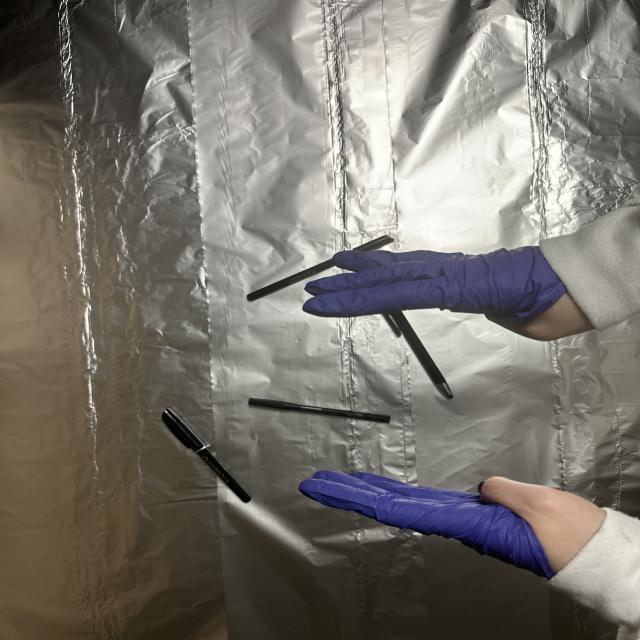glove_partial: (296, 466, 611, 580), (300, 247, 601, 341)
